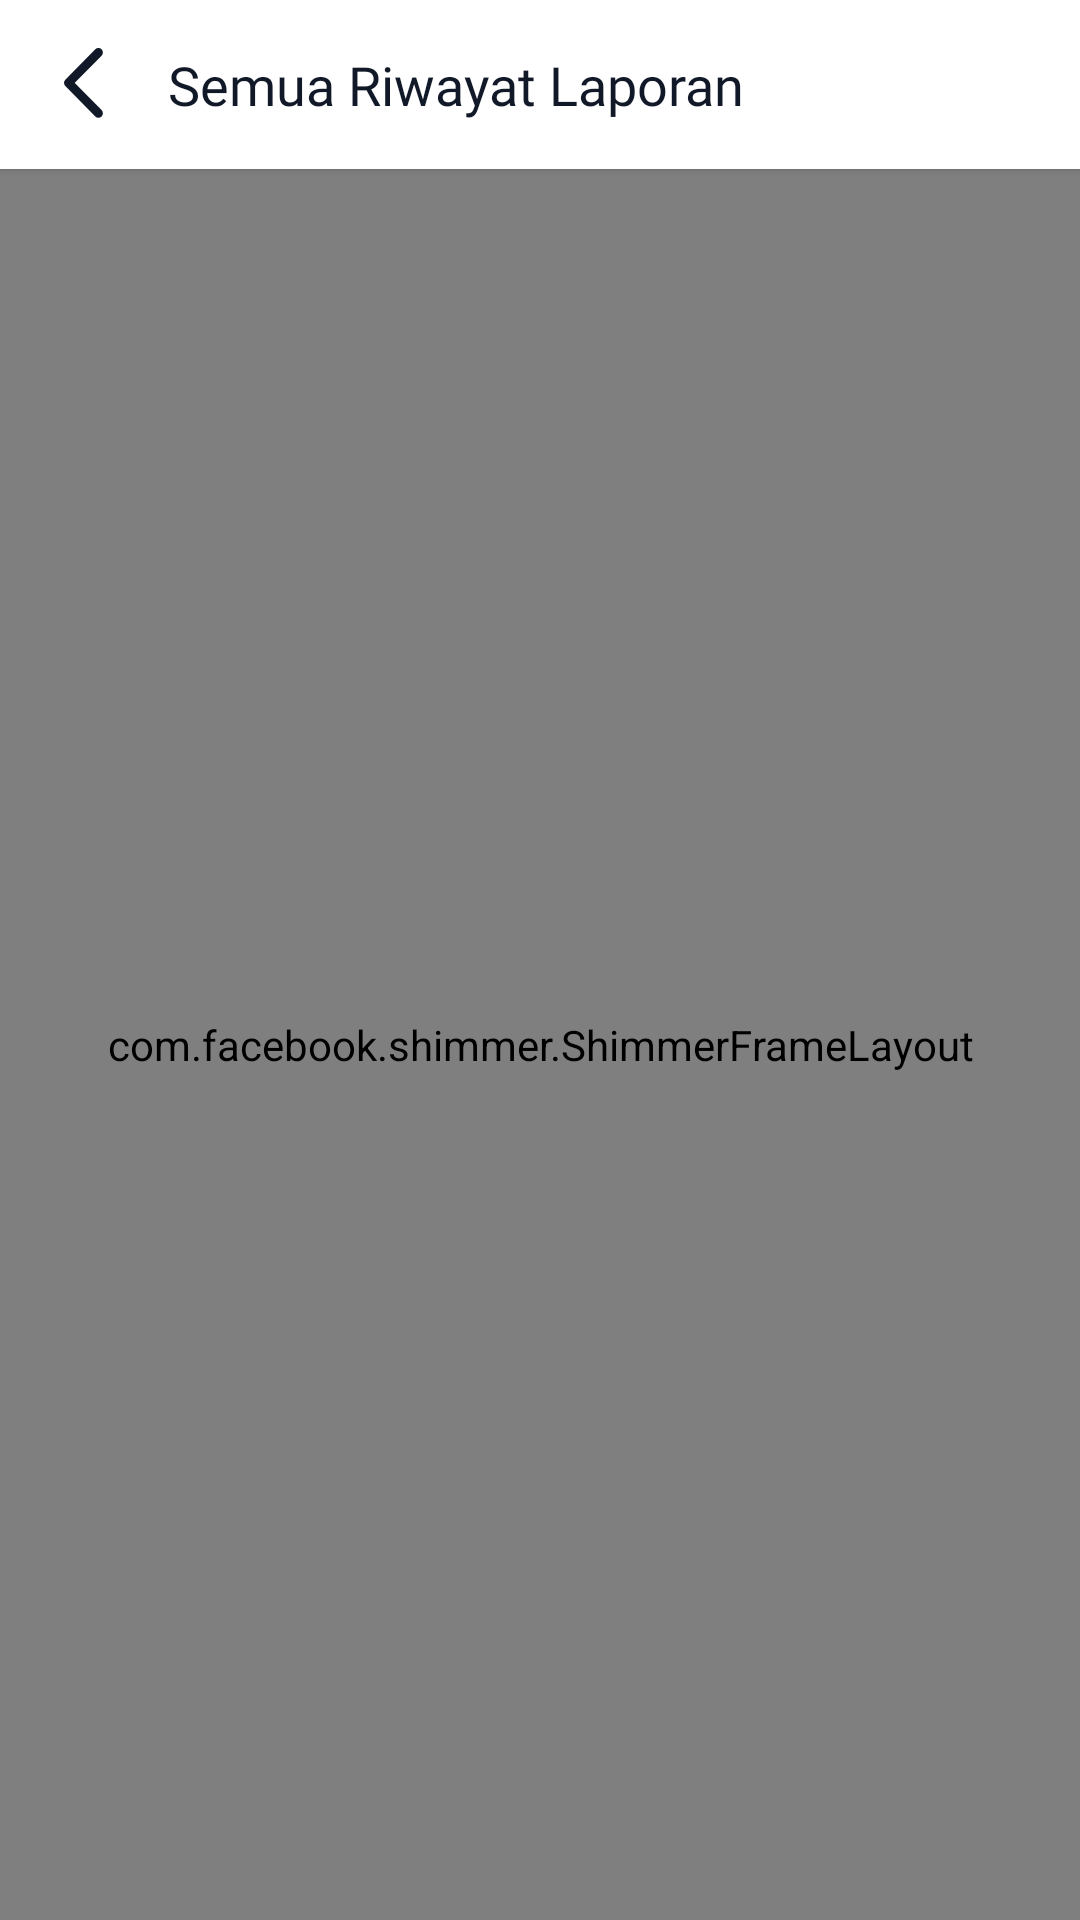

Screen size 1080x1920. Icon name, then its center in pixels as (x=x, y=y):
kembaliicon: (x=83, y=83)
